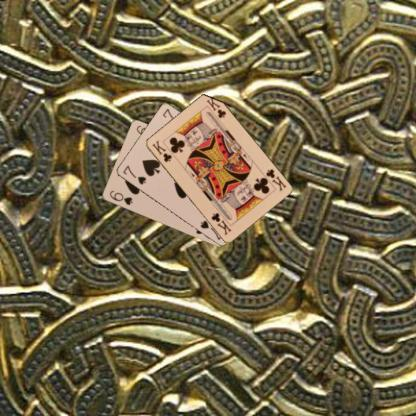6s: (106, 188, 134, 206)
7s: (121, 163, 148, 186)
Kc: (262, 166, 288, 192), (149, 138, 173, 164)
